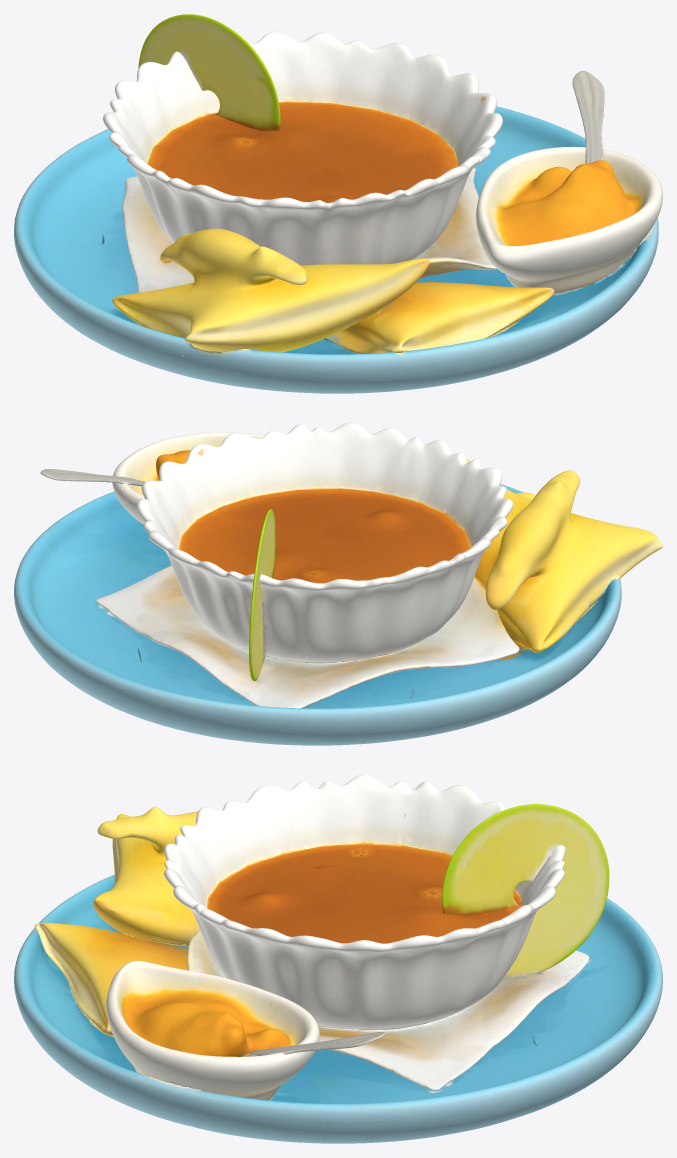
The model's file is hrira.glb.
The picture shows the model from 3 angles, top to bottom: view 1: azimuth 30°, elevation 25°; view 2: azimuth 150°, elevation 25°; view 3: azimuth 270°, elevation 25°; orthographic projection. The views are drawn at different scales.
Visible parts, largest first — view 1: tripo_node_7462b529-e010-4b50-bd76-df7531ff1fd2; view 2: tripo_node_7462b529-e010-4b50-bd76-df7531ff1fd2; view 3: tripo_node_7462b529-e010-4b50-bd76-df7531ff1fd2.
Part boxes in pixels (<box>): tripo_node_7462b529-e010-4b50-bd76-df7531ff1fd2: <box>14,14,662,393</box>; tripo_node_7462b529-e010-4b50-bd76-df7531ff1fd2: <box>14,422,662,745</box>; tripo_node_7462b529-e010-4b50-bd76-df7531ff1fd2: <box>14,774,662,1143</box>.
Size of the model in its own units: 0.9803 by 0.3483 by 0.9791.
1 material, 1 textured.
